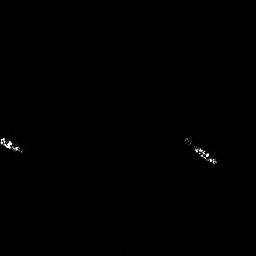ship: (184, 137, 217, 164), (1, 134, 24, 152)
